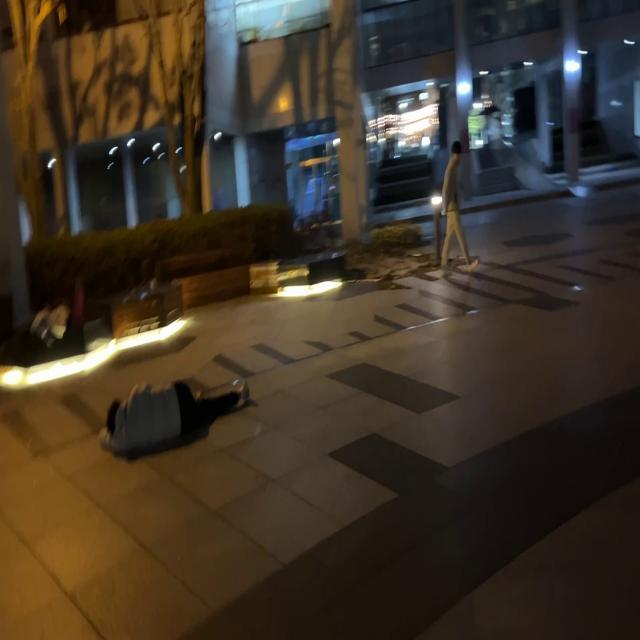Fall: (101, 379, 250, 460)
Stand: (442, 141, 472, 270)
